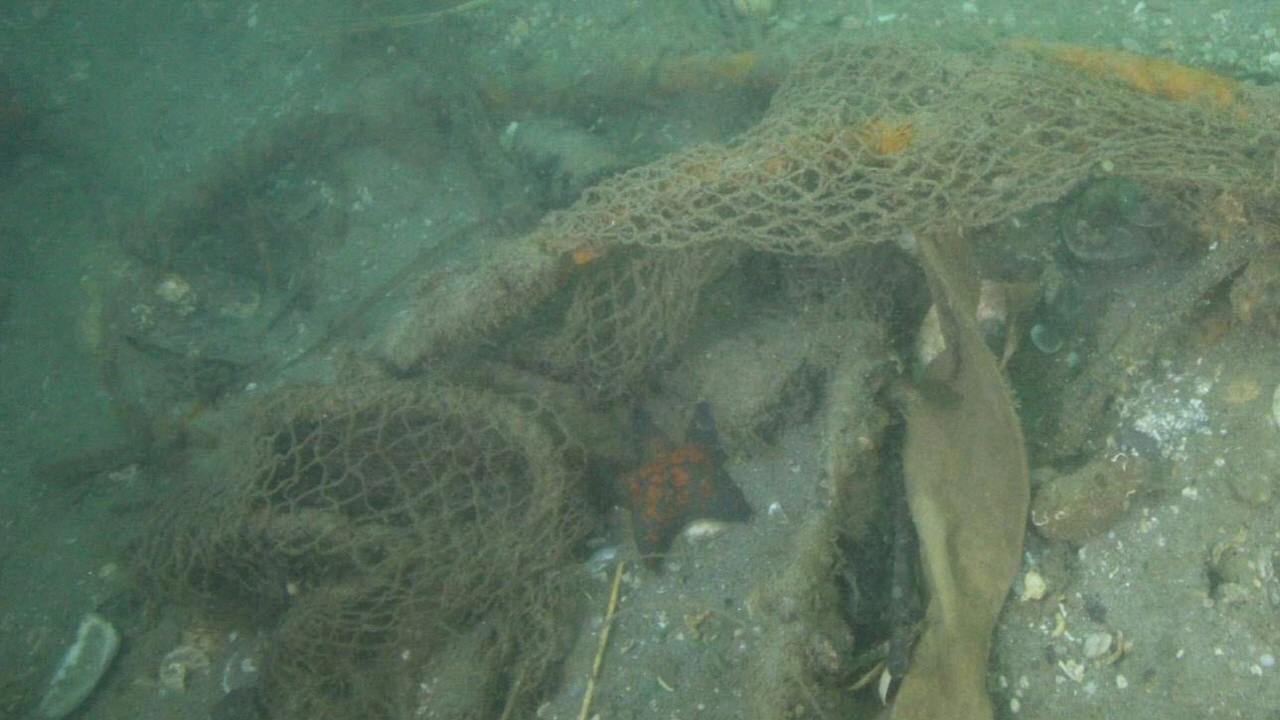fish net: (143, 42, 1279, 720)
